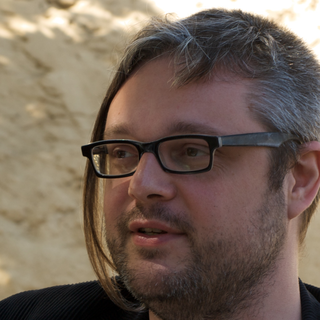eye: (168, 141, 214, 166), (107, 144, 139, 164)
